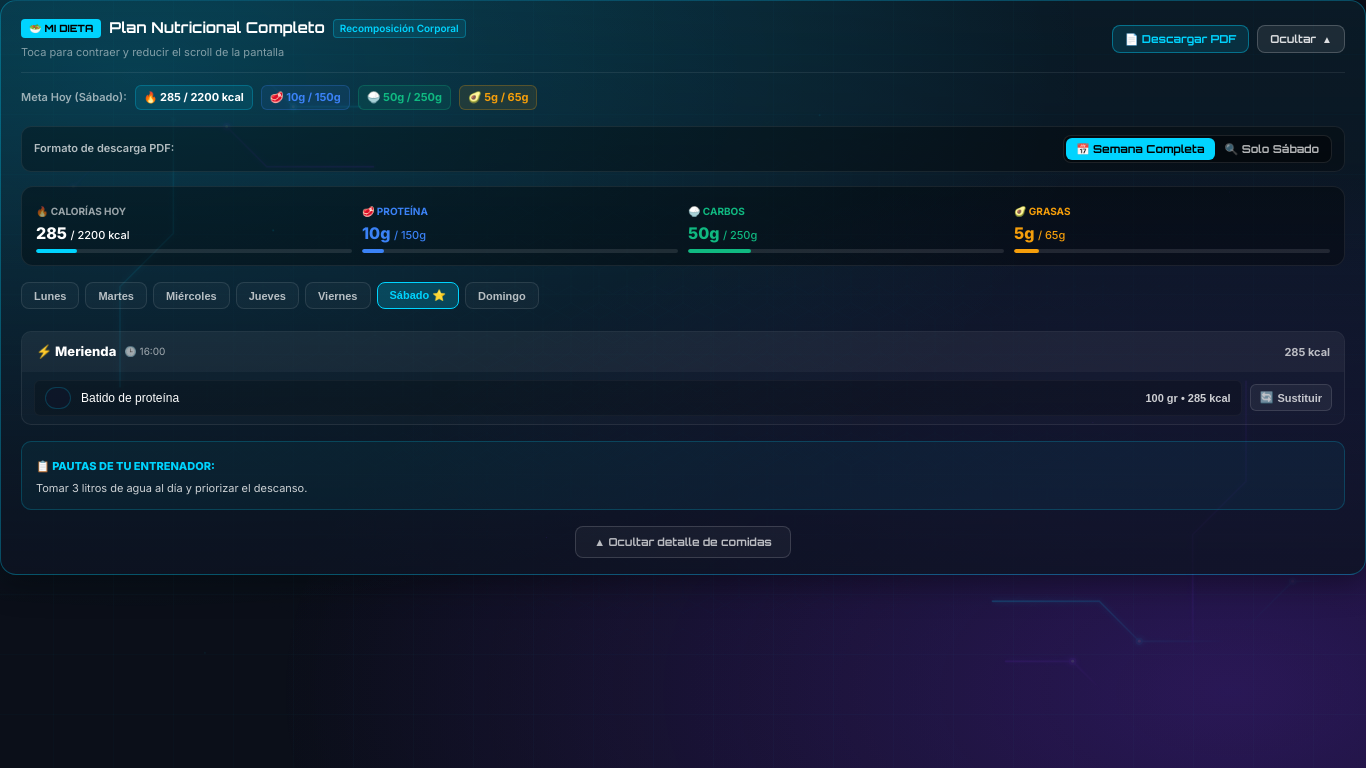
AthleteNutritionCard — Vista de Nutrición del Atleta › 5. Renderiza las comidas en estricto orden cronológico en la pantalla del atleta
Click the button "Miércoles": {"x": 191, "y": 296} [153,282,230,309]
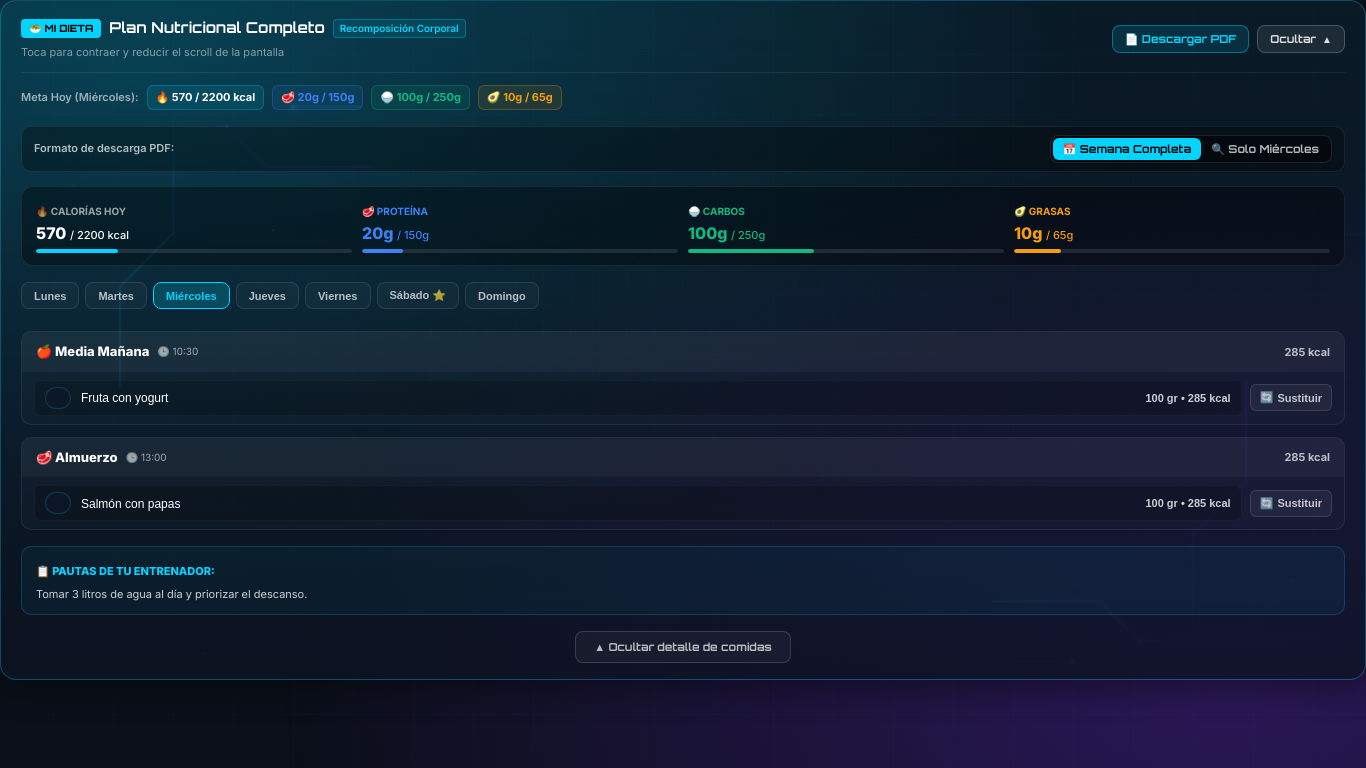
Expected: the text "Fruta con yogurt" is shown, [81,391,168,405]
Expected: the text "Salmón con papas" is shown, [81,496,180,510]
